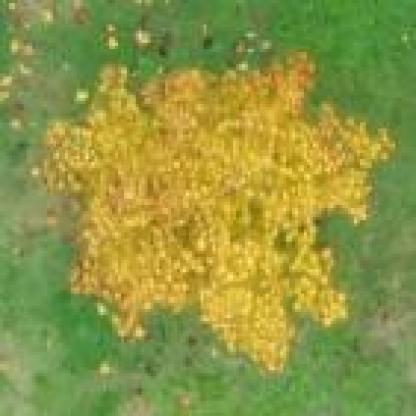Deciduous Tree: (21, 38, 401, 372)
